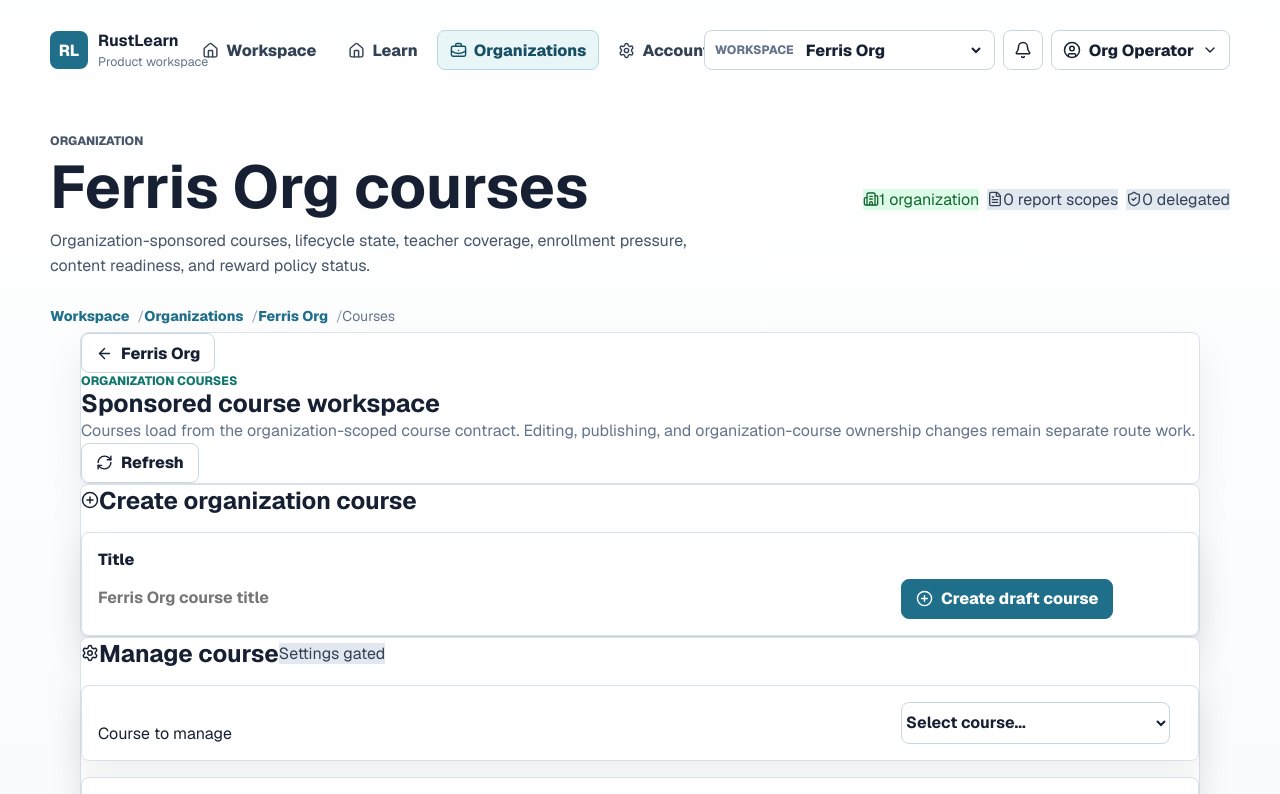
Scenario: OrganizationCoursesRoute › creates a draft organization course through the feature API
Type "Org Rust Lab" into the field with placeholder "Ferris Org course title" at (494, 598), box [98,577,889,619]
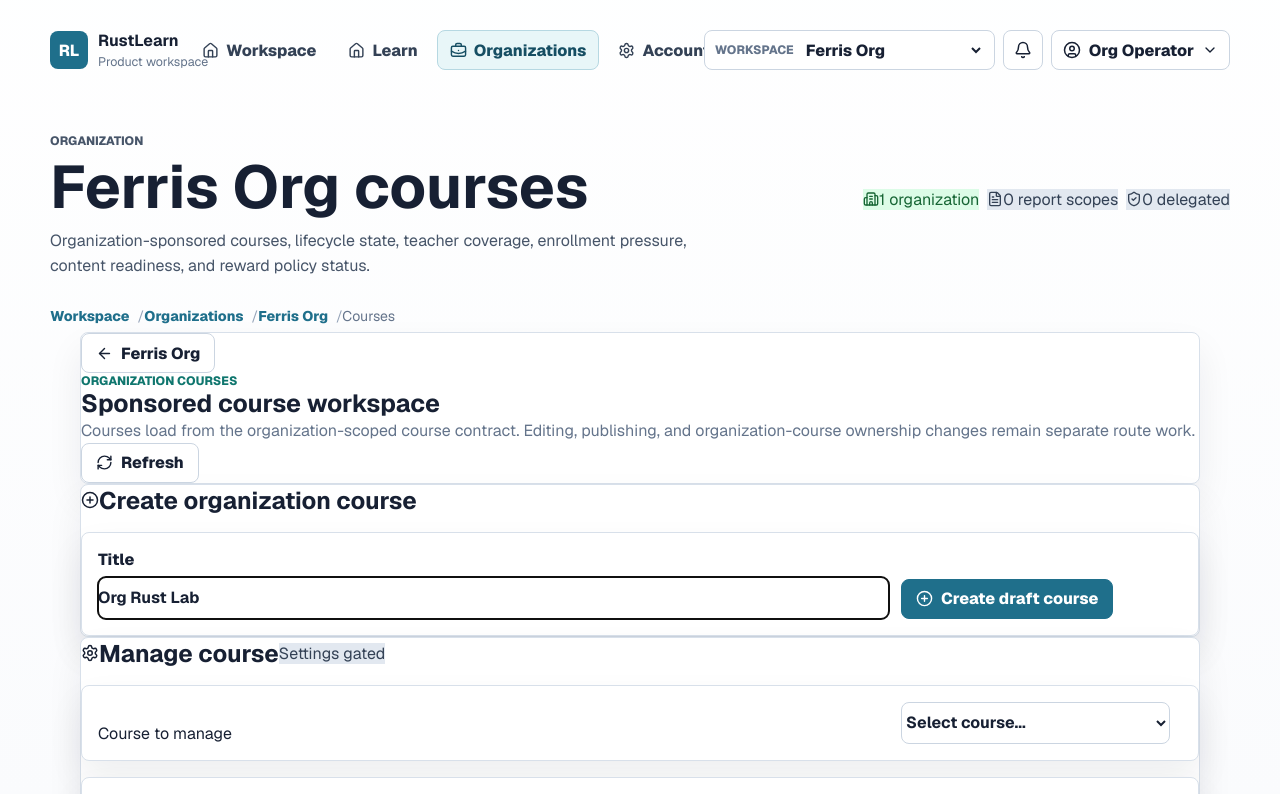
Click the button "Create draft course" at (1007, 599), box [901,579,1113,619]
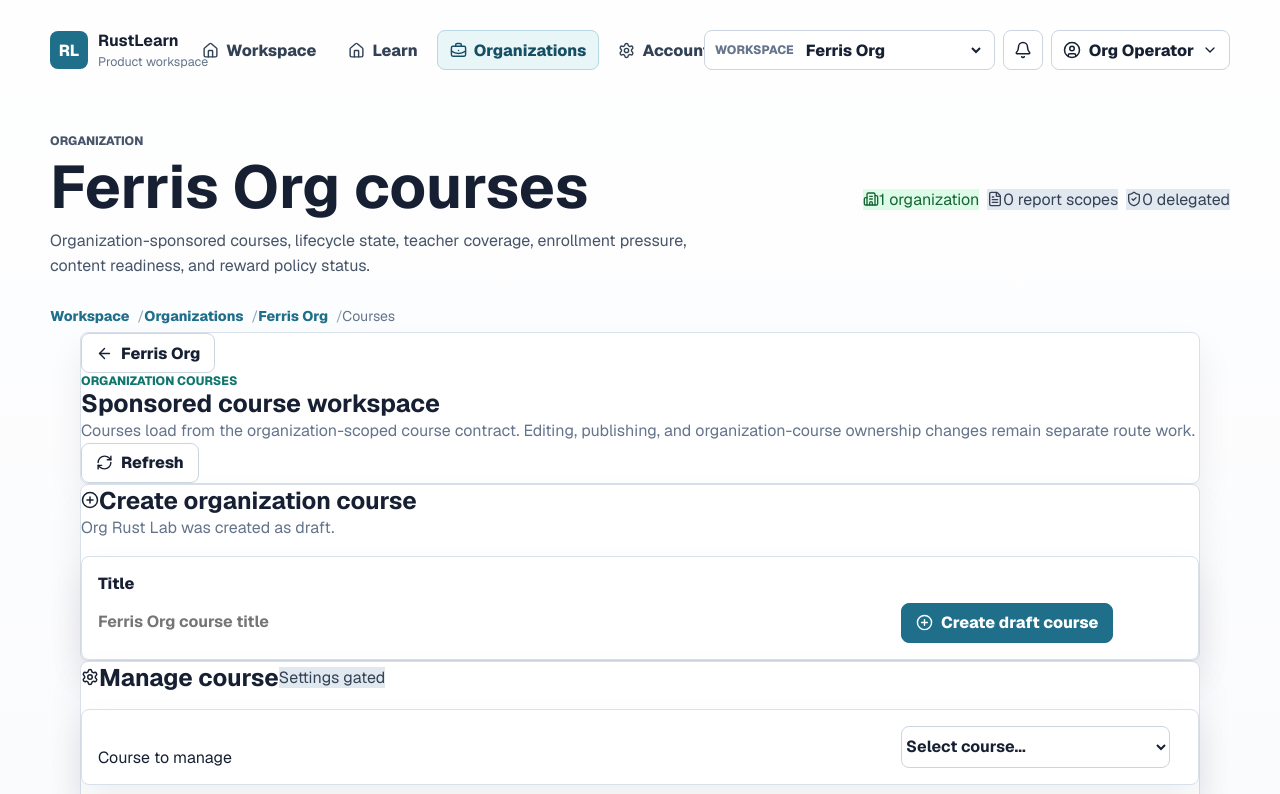
Check: the text "Org Rust Lab was created as draft." is shown, box [81,517,334,538]
